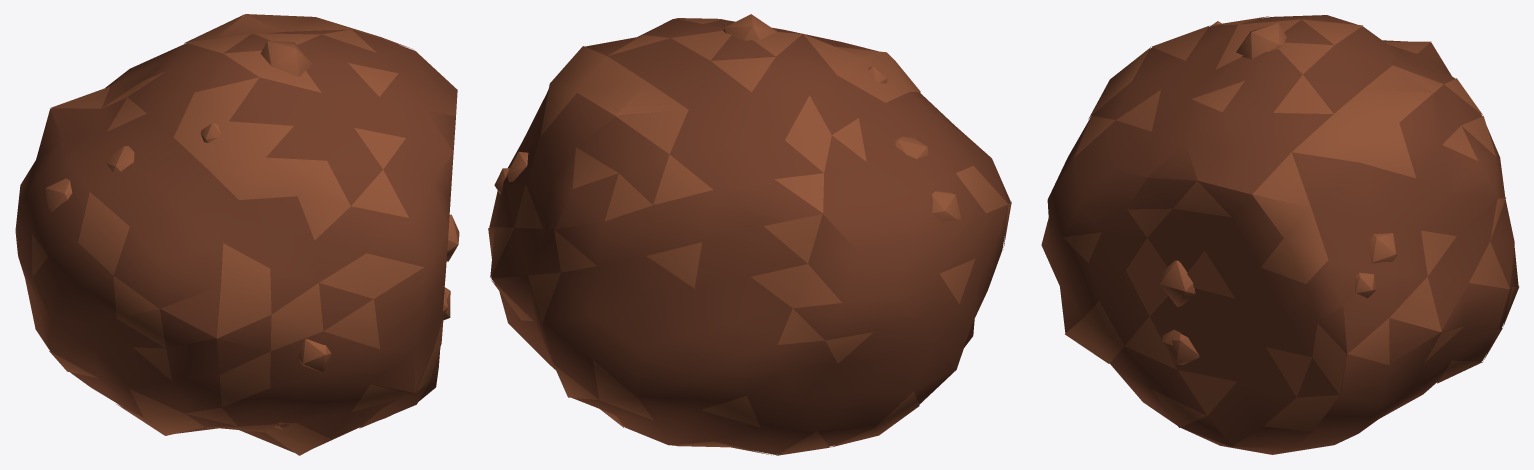
Rendered from ore_aluminum_web.glb.
3 renders of one model, left to right at view 1: azimuth 30°, elevation 25°; view 2: azimuth 150°, elevation 25°; view 3: azimuth 270°, elevation 25°, orthographic. The views are drawn at different scales.
Visible parts, largest first — view 1: aluminum_matrix, aluminum_ochre_crust, aluminum_pisolites; view 2: aluminum_matrix, aluminum_ochre_crust, aluminum_pisolites; view 3: aluminum_matrix, aluminum_ochre_crust, aluminum_pisolites.
Boxes of the visible parts, <box> form: aluminum_matrix: <box>15,22,457,452</box>; aluminum_ochre_crust: <box>32,14,443,455</box>; aluminum_pisolites: <box>45,41,459,429</box>; aluminum_matrix: <box>489,19,1010,454</box>; aluminum_ochre_crust: <box>488,18,1011,455</box>; aluminum_pisolites: <box>494,14,961,221</box>; aluminum_matrix: <box>1041,15,1518,454</box>; aluminum_ochre_crust: <box>1063,16,1519,431</box>; aluminum_pisolites: <box>1159,21,1397,364</box>.
Size of the model in its own units: 1 by 0.8377 by 0.9437.
